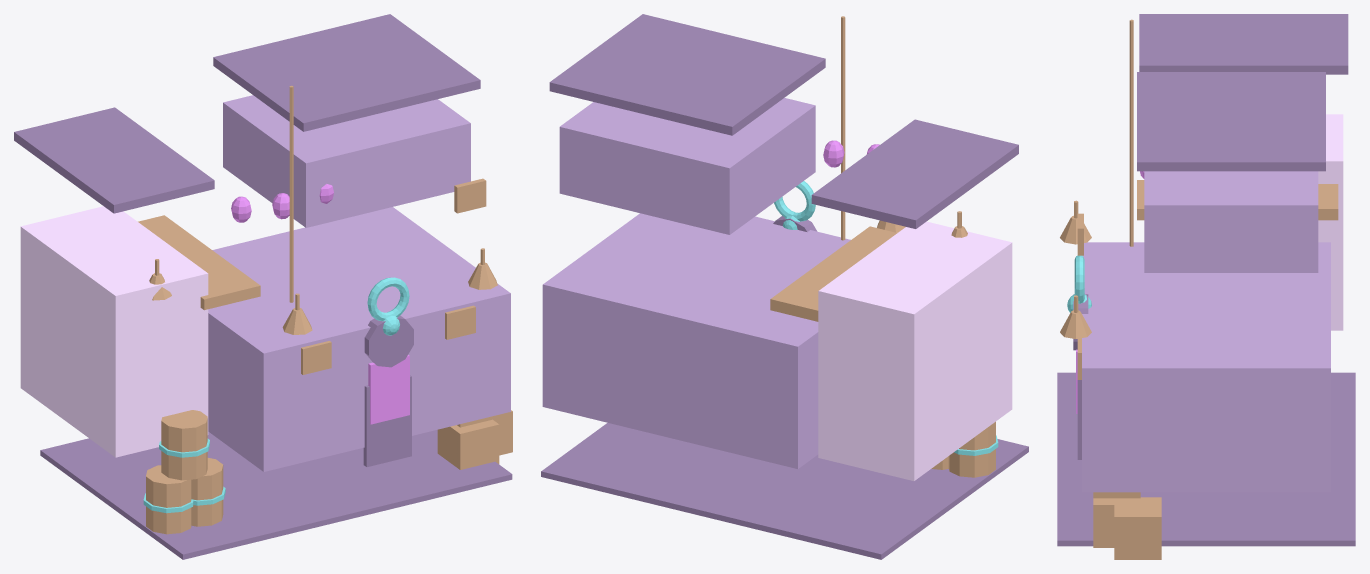
The model's file is ShadowDistrict.glb.
3 views of the same model, side by side, from view 1: azimuth 30°, elevation 25°; view 2: azimuth 150°, elevation 25°; view 3: azimuth 270°, elevation 25° (orthographic). The views are drawn at different scales.
Parts seen in each view (by area): view 1: MainDen, SideDen, Foundation, UpperStorey, UpperRoof, SideRoof, Passage, Barrel_2, Crate_1_0, Barrel_1, DoorVoid, DoorDrape (+8 smaller); view 2: MainDen, SideDen, Foundation, UpperStorey, UpperRoof, SideRoof, Passage, Barrel_1, Rope, Symbol; view 3: MainDen, UpperRoof, Foundation, UpperStorey, SideRoof, SideDen, Crate_1_0.001, Rope, Passage, Crate_1_0, LHood_1, Symbol (+2 smaller).
Boxes of the visible parts, x1=… form: MainDen: x1=208, y1=207, x2=510, y2=471; SideDen: x1=20, y1=206, x2=208, y2=457; Foundation: x1=40, y1=429, x2=512, y2=559; UpperStorey: x1=223, y1=95, x2=470, y2=227; UpperRoof: x1=213, y1=14, x2=480, y2=131; SideRoof: x1=14, y1=107, x2=214, y2=213; Passage: x1=138, y1=215, x2=260, y2=310; Barrel_2: x1=161, y1=410, x2=207, y2=480; Crate_1_0: x1=437, y1=419, x2=499, y2=469; Barrel_1: x1=146, y1=465, x2=191, y2=534; DoorVoid: x1=363, y1=375, x2=411, y2=466; DoorDrape: x1=368, y1=355, x2=409, y2=424; MainDen: x1=542, y1=213, x2=850, y2=468; SideDen: x1=818, y1=221, x2=1012, y2=480; Foundation: x1=541, y1=423, x2=1028, y2=559; UpperStorey: x1=559, y1=98, x2=815, y2=234; UpperRoof: x1=549, y1=14, x2=825, y2=135; SideRoof: x1=811, y1=119, x2=1018, y2=228; Passage: x1=770, y1=226, x2=897, y2=321; Barrel_1: x1=948, y1=421, x2=995, y2=477; Rope: x1=841, y1=16, x2=845, y2=240; Symbol: x1=774, y1=181, x2=815, y2=221; MainDen: x1=1082, y1=242, x2=1330, y2=492; UpperRoof: x1=1137, y1=72, x2=1325, y2=171; Foundation: x1=1057, y1=372, x2=1355, y2=546; UpperStorey: x1=1144, y1=171, x2=1318, y2=272; SideRoof: x1=1139, y1=14, x2=1348, y2=74; SideDen: x1=1318, y1=114, x2=1343, y2=330; Crate_1_0.001: x1=1114, y1=497, x2=1161, y2=559; Rope: x1=1129, y1=19, x2=1133, y2=246; Passage: x1=1137, y1=180, x2=1338, y2=220; Crate_1_0: x1=1093, y1=498, x2=1114, y2=547; LHood_1: x1=1060, y1=310, x2=1091, y2=338; Symbol: x1=1074, y1=255, x2=1084, y2=303.
Bounding box in the file's own units: 3.76 × 3.82 × 2.4.
